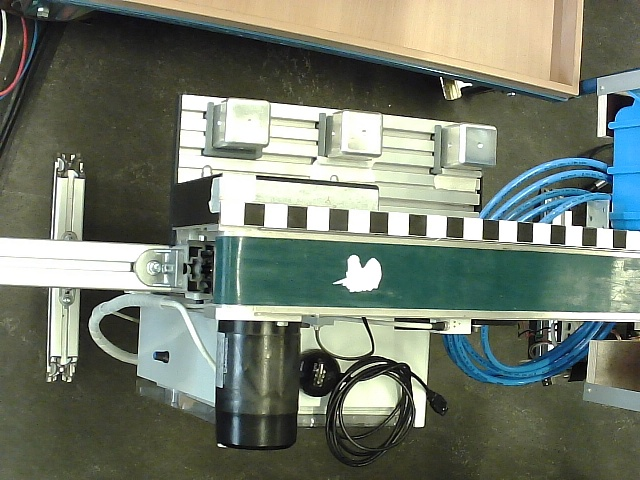unicorn: (331, 253, 382, 292)
